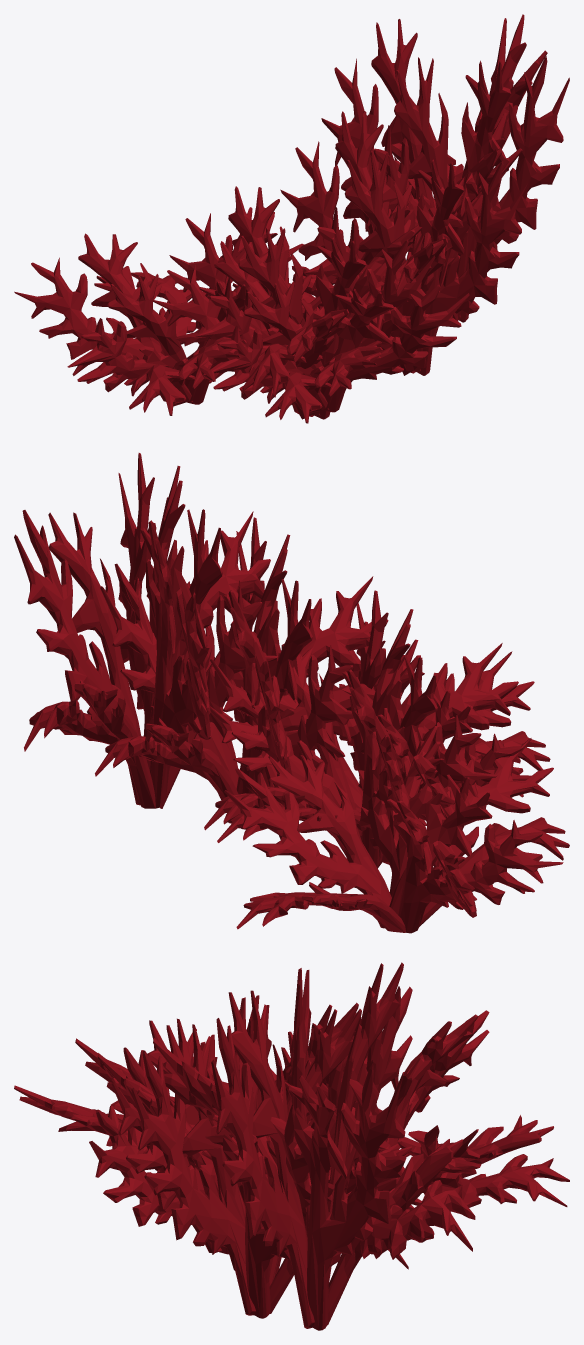
Rendered from red_coral.dae.
3 views of the same model, one above another, from view 1: azimuth 30°, elevation 25°; view 2: azimuth 150°, elevation 25°; view 3: azimuth 270°, elevation 25° (orthographic). The views are drawn at different scales.
Visible parts, largest first — view 1: _0010_Coral_v1_L3_v4_000, _0010_Coral_v1_L3_v4_002, _0010_Coral_v1_L3_v4_003, _0010_Coral_v1_L3_v4_004, _0010_Coral_v1_L3_v4_001; view 2: _0010_Coral_v1_L3_v4_000, _0010_Coral_v1_L3_v4_003, _0010_Coral_v1_L3_v4_002, _0010_Coral_v1_L3_v4_004, _0010_Coral_v1_L3_v4_001; view 3: _0010_Coral_v1_L3_v4_000, _0010_Coral_v1_L3_v4_002, _0010_Coral_v1_L3_v4_003, _0010_Coral_v1_L3_v4_004, _0010_Coral_v1_L3_v4_001.
Part boxes in pixels (bbox=[...]): _0010_Coral_v1_L3_v4_000: bbox=[321, 14, 569, 322]; _0010_Coral_v1_L3_v4_002: bbox=[280, 111, 528, 375]; _0010_Coral_v1_L3_v4_003: bbox=[14, 207, 323, 415]; _0010_Coral_v1_L3_v4_004: bbox=[169, 185, 435, 419]; _0010_Coral_v1_L3_v4_001: bbox=[153, 219, 469, 423]; _0010_Coral_v1_L3_v4_000: bbox=[14, 453, 277, 808]; _0010_Coral_v1_L3_v4_003: bbox=[224, 708, 569, 933]; _0010_Coral_v1_L3_v4_002: bbox=[95, 517, 388, 828]; _0010_Coral_v1_L3_v4_004: bbox=[204, 590, 520, 868]; _0010_Coral_v1_L3_v4_001: bbox=[210, 621, 550, 842]; _0010_Coral_v1_L3_v4_000: bbox=[153, 962, 475, 1330]; _0010_Coral_v1_L3_v4_002: bbox=[97, 1005, 414, 1318]; _0010_Coral_v1_L3_v4_003: bbox=[214, 1010, 569, 1207]; _0010_Coral_v1_L3_v4_004: bbox=[75, 995, 413, 1270]; _0010_Coral_v1_L3_v4_001: bbox=[14, 1034, 421, 1254].
Size of the model in its own units: 196 by 165 by 128.
